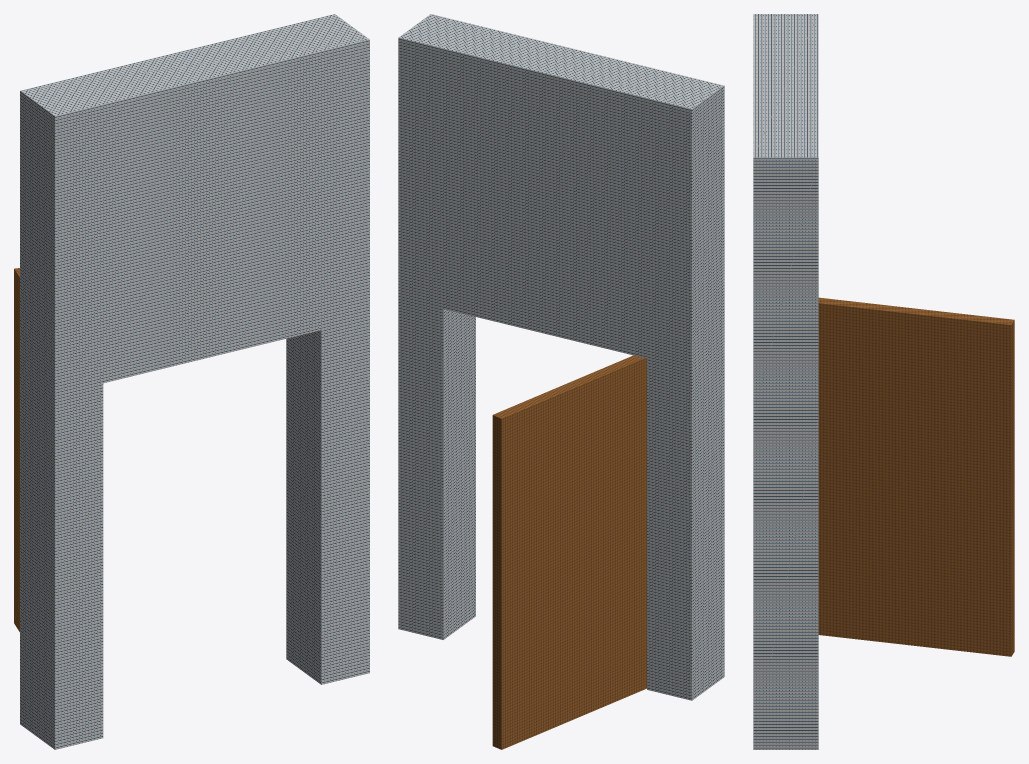
The model's file is Interior Door Prefab.fbx.
3 renders of one model, left to right at view 1: azimuth 30°, elevation 25°; view 2: azimuth 150°, elevation 25°; view 3: azimuth 270°, elevation 25°, orthographic. The views are drawn at different scales.
Visible parts, largest first — view 1: Cube__3_, Cube__5_, Cube__4_, Cube__6_; view 2: Cube__3_, Cube__6_, Cube__5_, Cube__4_; view 3: Cube__6_, Cube__3_, Cube__4_.
Boxes of the visible parts, x1=… form: Cube__3_: x1=20, y1=14, x2=369, y2=394; Cube__5_: x1=20, y1=370, x2=103, y2=749; Cube__4_: x1=286, y1=318, x2=369, y2=684; Cube__6_: x1=14, y1=268, x2=19, y2=631; Cube__3_: x1=398, y1=14, x2=724, y2=369; Cube__6_: x1=492, y1=355, x2=646, y2=749; Cube__5_: x1=647, y1=346, x2=724, y2=700; Cube__4_: x1=398, y1=298, x2=475, y2=639; Cube__6_: x1=818, y1=297, x2=1014, y2=656; Cube__3_: x1=753, y1=14, x2=818, y2=418; Cube__4_: x1=753, y1=418, x2=818, y2=749.
Bounding box in the file's own units: 102 × 197 × 78.8.
